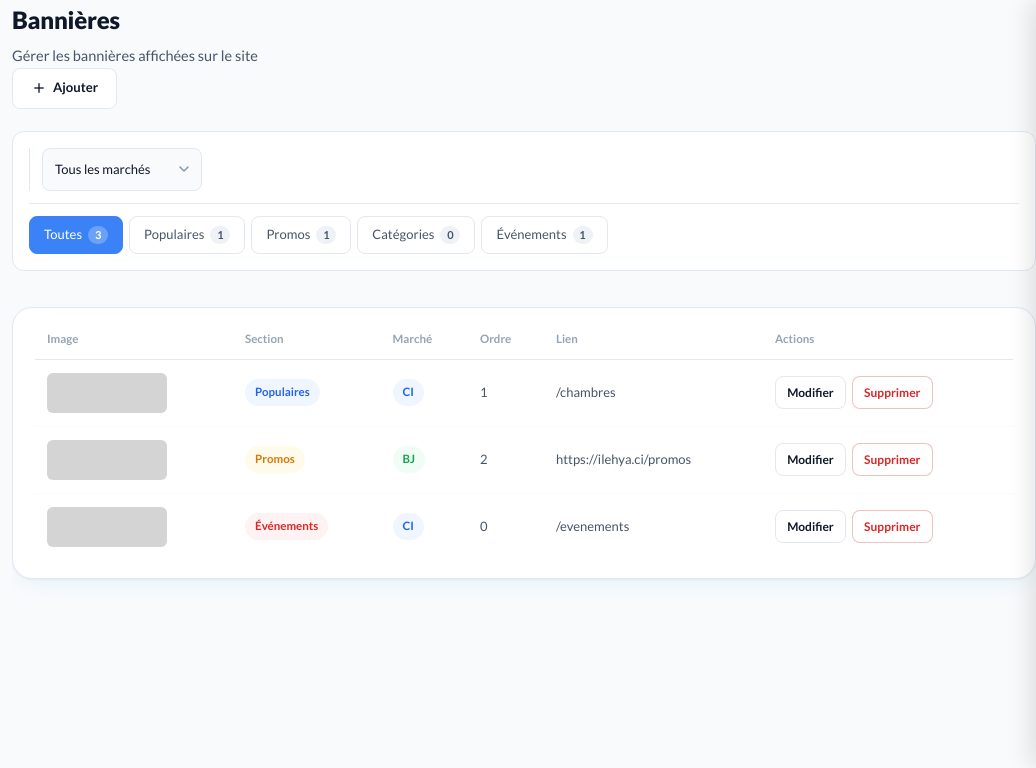
Test: AdminBannersPage › affiche l'état vide quand la section sélectionnée est vide
Check: the table is shown, box [35,330,1013,560]
Click the button "Catégories 0": click(416, 235) [357,216,476,254]
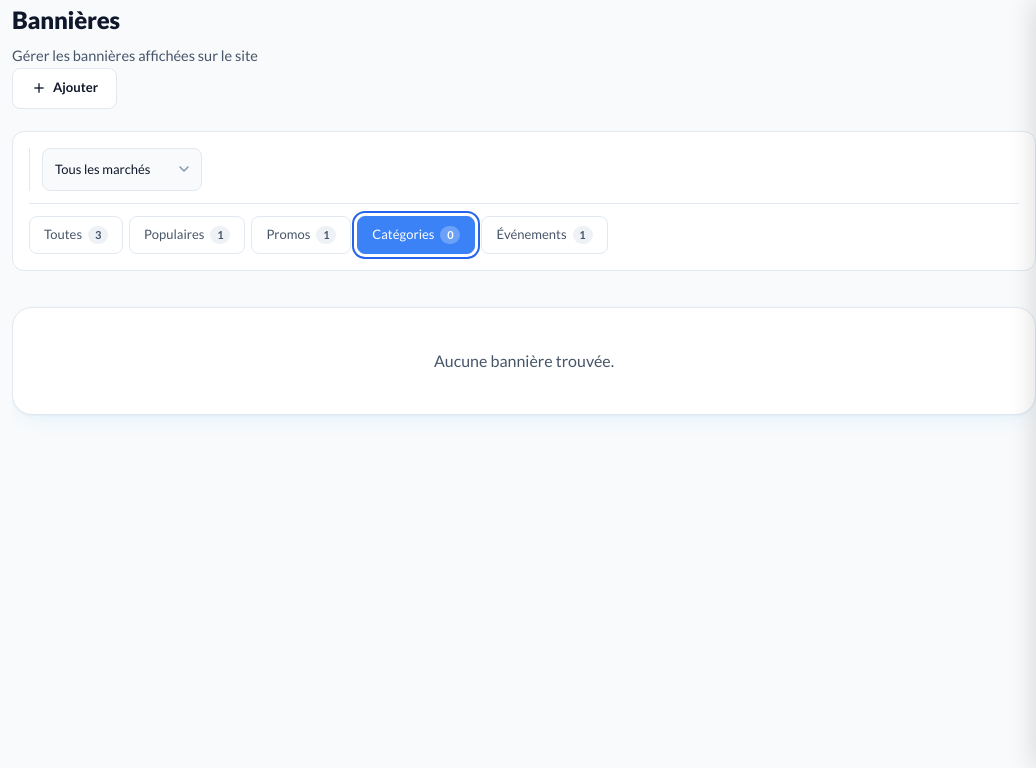
Check: the text "Aucune bannière trouvée." is shown, box [12,307,1035,415]
Check: the table is gone
Check: the text "/chambres" is gone
